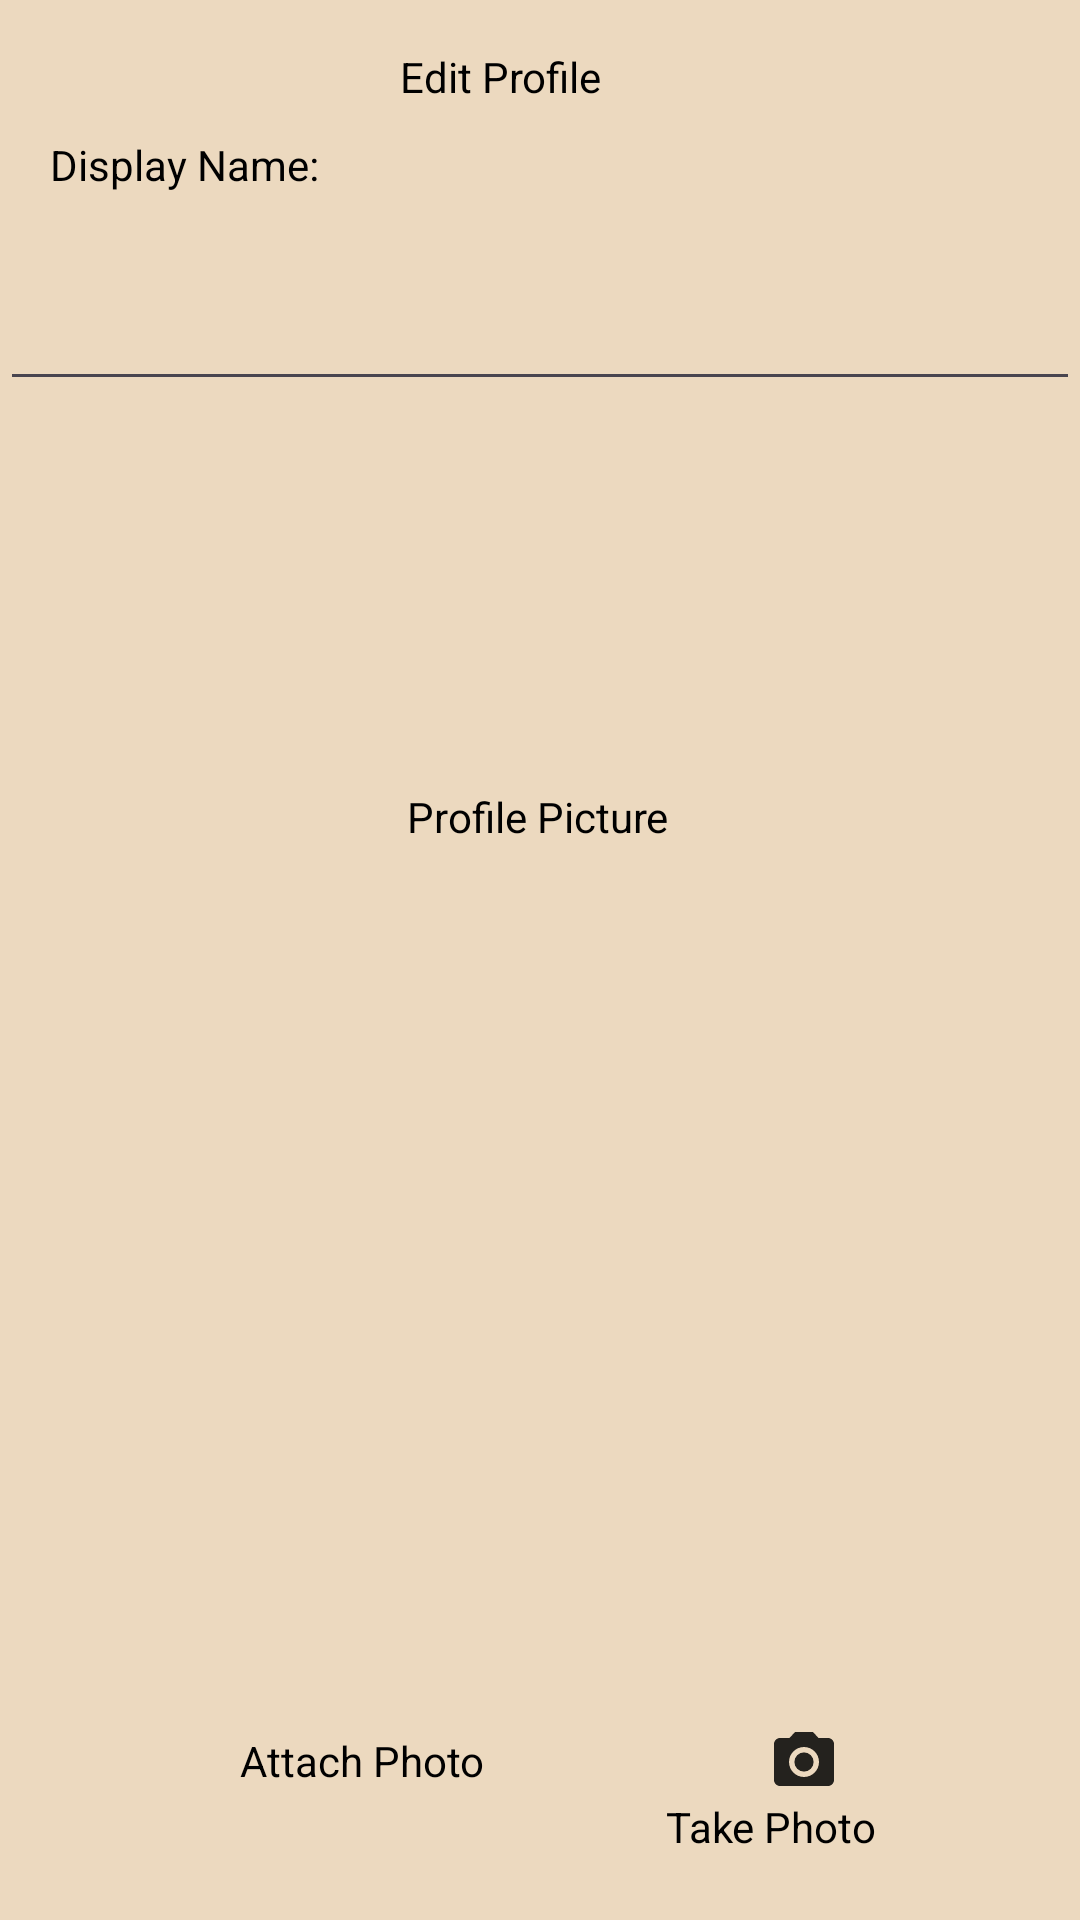

Icons on this 1080px x 1920px Android screen, each with the point to tap as (x=x, y=y):
camera: (x=804, y=1759)
